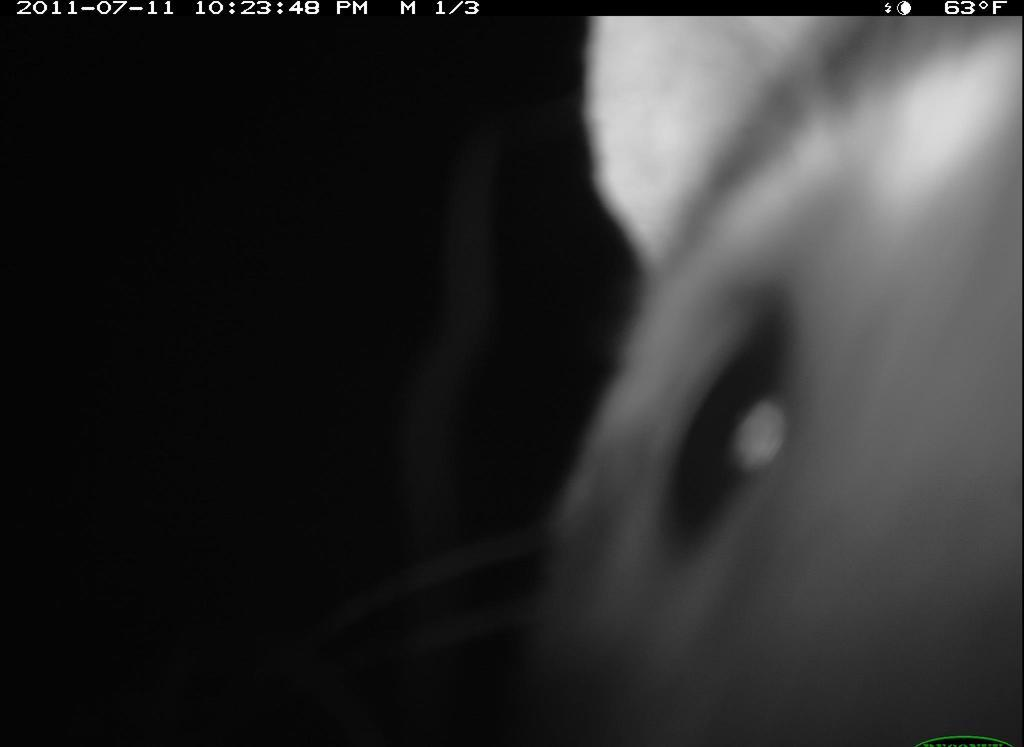raccoon: (379, 20, 1024, 747)
